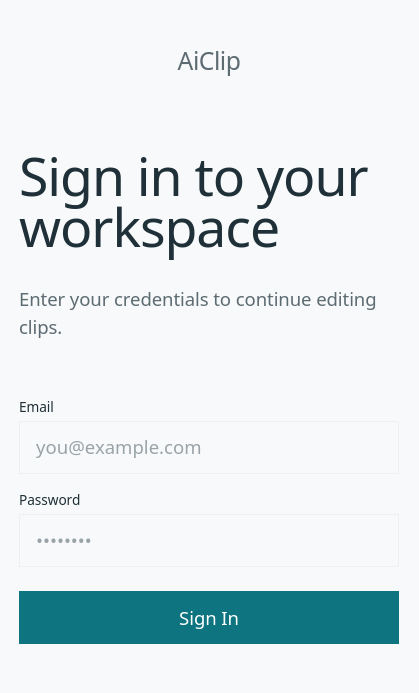
Test: root provider, forms and HTTP integration (F1–F3) › switches views without carrying validation or transport errors for register=false
This screenshot has width=419, height=693.
Expected: the button "Sign In" is shown, [19,591,399,644]
In the field labelled "Email": (209, 448) [19,421,399,474], type "mira@example.test"
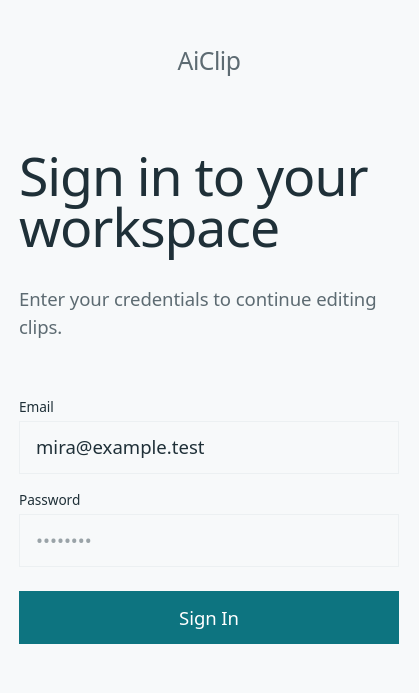
In the password field labelled "Password": (209, 541) [19,514,399,567], type "test-password"
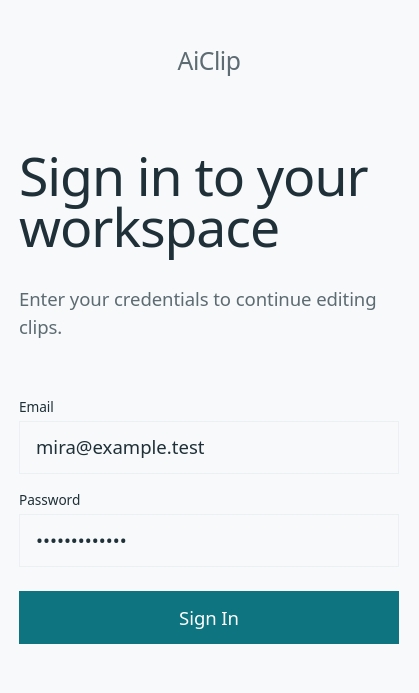
Submit the form "Sign In", box [19,397,399,644]
(page scrolled)
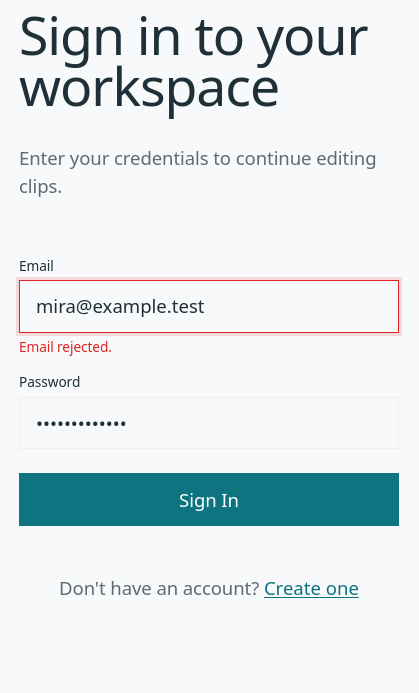
Now the message "Email rejected." is shown, box [19,337,112,356]
Click the button "Create one": (311, 588) [264,574,359,602]
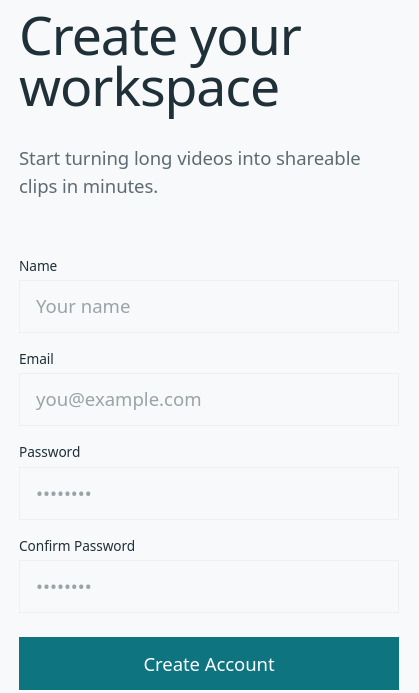
Now the message "Email rejected." is gone
Now the field labelled "Email" is empty, box [19,373,399,426]
